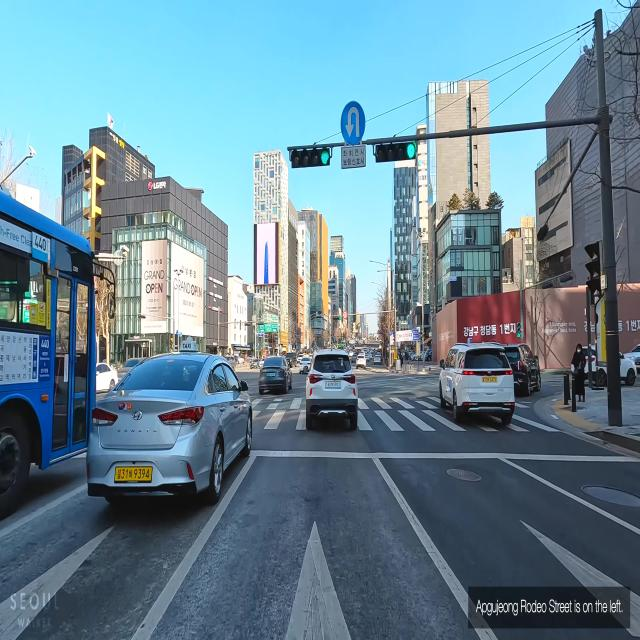Green Light: (320, 148, 330, 166), (406, 141, 416, 159)
